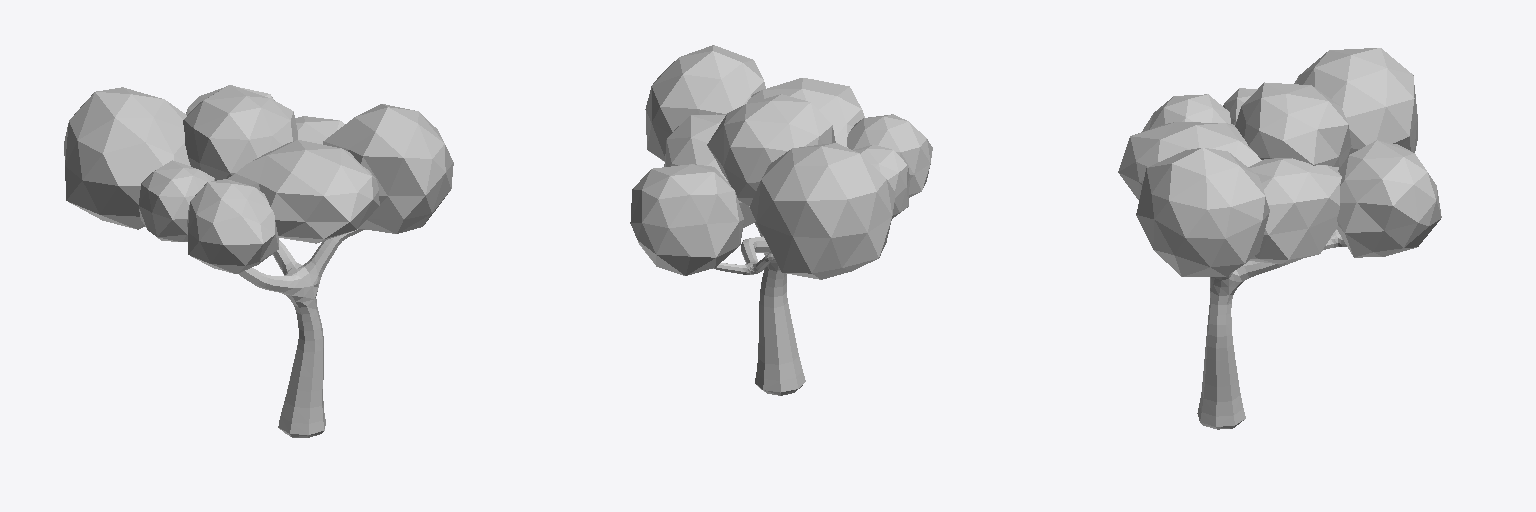
File: tree.obj
3 renders of one model, left to right at view 1: azimuth 30°, elevation 25°; view 2: azimuth 150°, elevation 25°; view 3: azimuth 270°, elevation 25°, orthographic.
Parts seen in each view (by area): view 1: Icosphere.002; view 2: Icosphere.002; view 3: Icosphere.002.
Boxes of the visible parts, x1,y1,x2,y2 form: Icosphere.002: [64, 85, 453, 437]; Icosphere.002: [630, 45, 932, 395]; Icosphere.002: [1118, 48, 1441, 429].
Bounding box in the file's own units: 9.56 × 9.66 × 8.9.